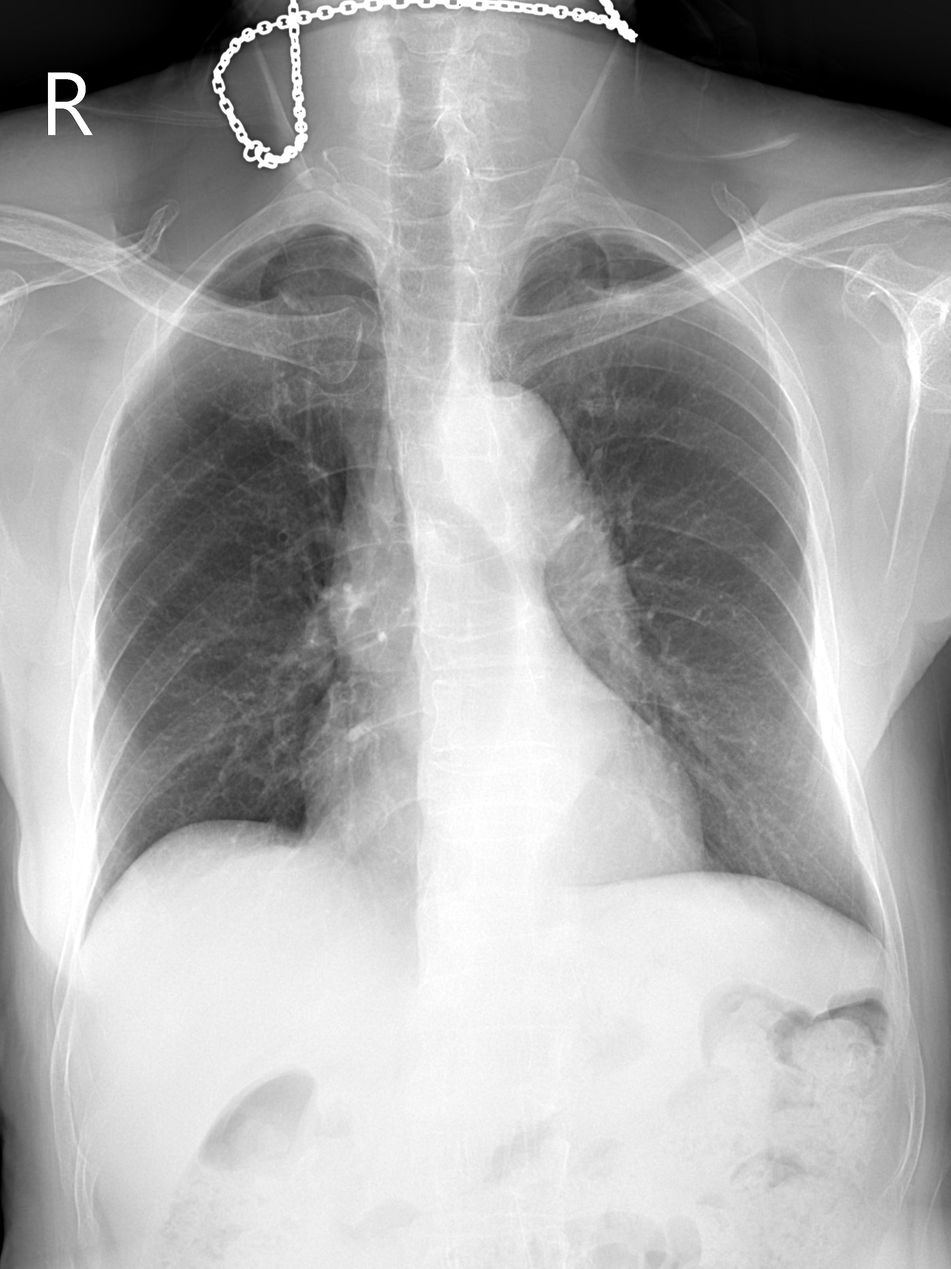Aortic enlargement: (324, 379, 586, 660)
